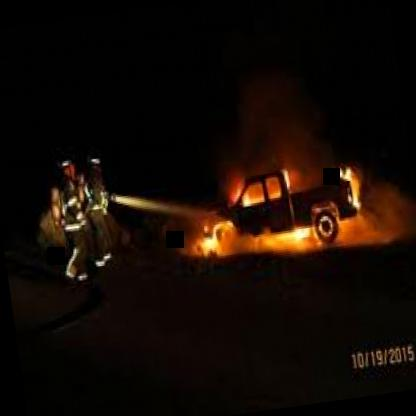fire: (182, 147, 372, 273)
